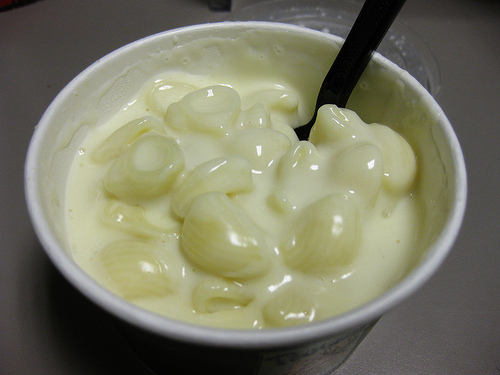macncheese: (64, 57, 418, 331)
